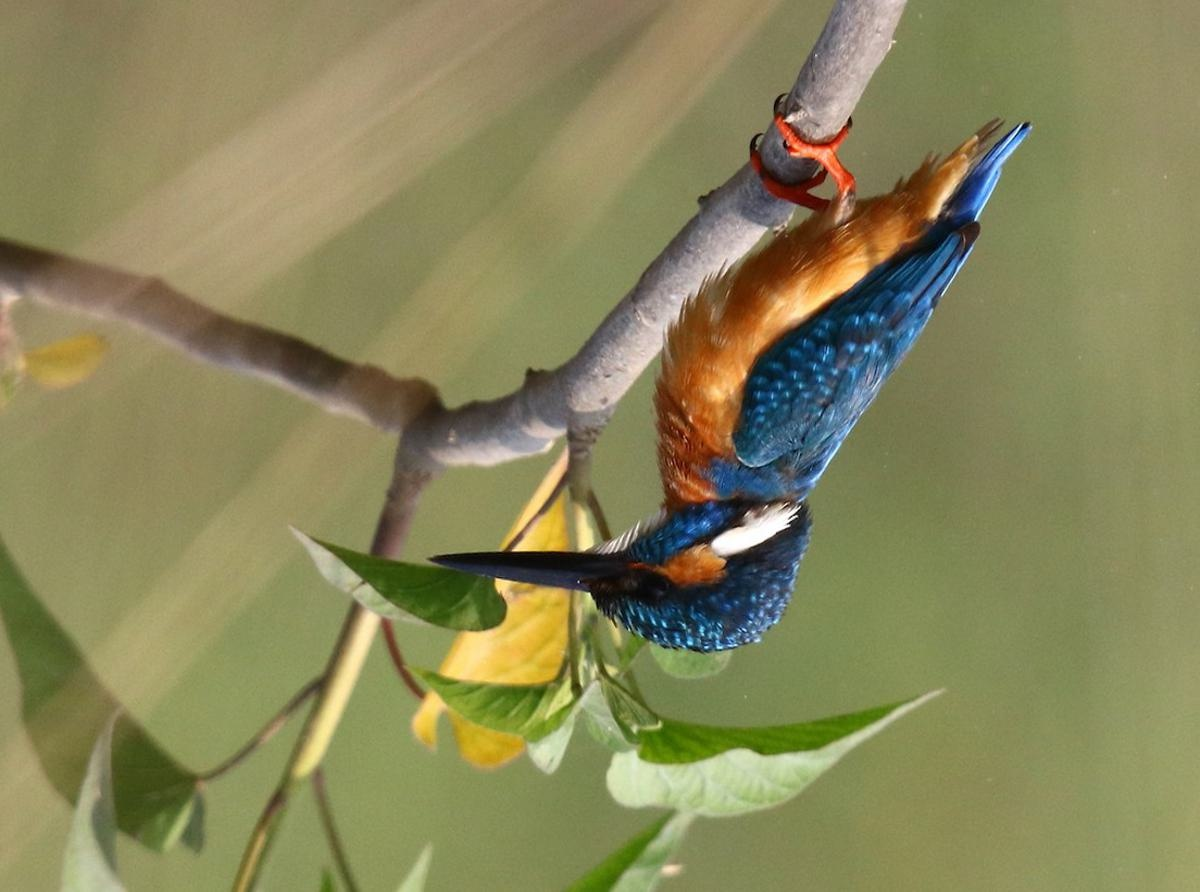kingfisher: (389, 66, 1094, 656)
